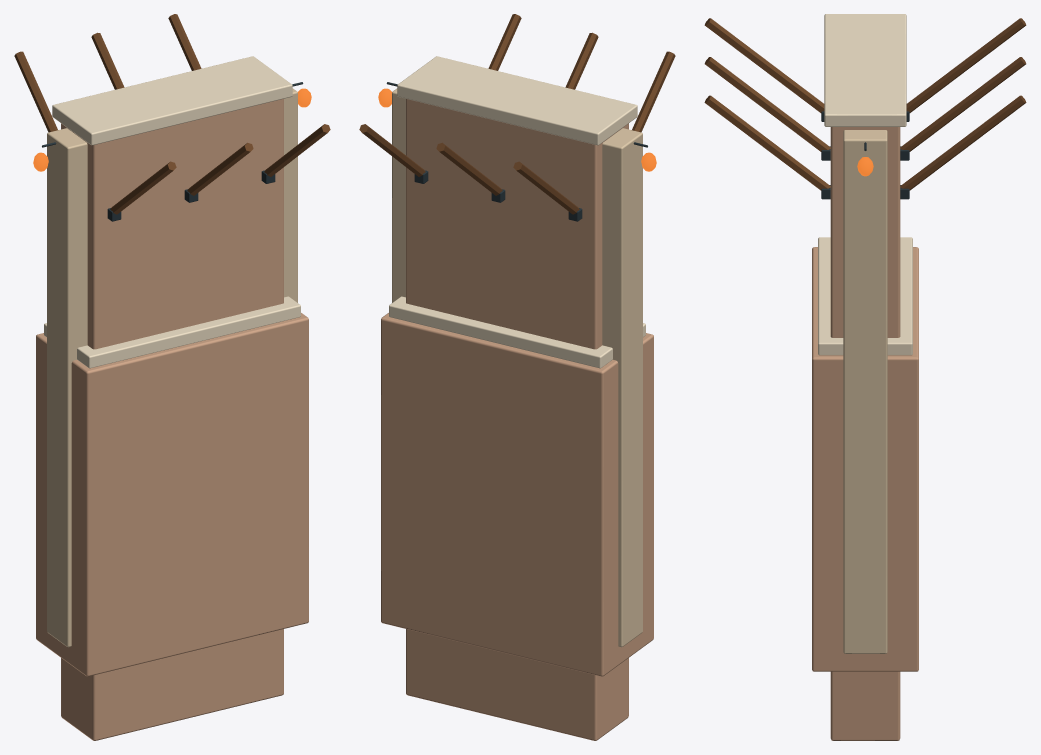
Rendered from rt_lantern_pier.glb.
3 renders of one model, left to right at view 1: azimuth 30°, elevation 25°; view 2: azimuth 150°, elevation 25°; view 3: azimuth 270°, elevation 25°, orthographic. The views are drawn at different scales.
Parts seen in each view (by area): view 1: rt_lantern_pier_body; view 2: rt_lantern_pier_body; view 3: rt_lantern_pier_body.
Boxes of the visible parts, bbox=[...] form: rt_lantern_pier_body: bbox=[14, 14, 330, 740]; rt_lantern_pier_body: bbox=[359, 14, 675, 740]; rt_lantern_pier_body: bbox=[704, 14, 1026, 740].
Size of the model in its own units: 10.39 by 22.27 by 10.2.
